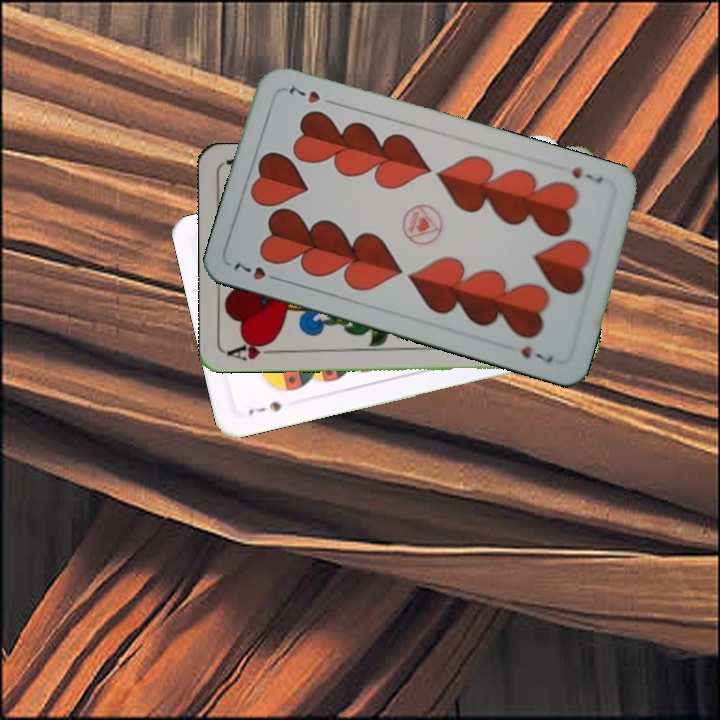H7: (230, 259, 285, 285), (567, 163, 606, 186)
HA: (224, 336, 283, 364)
S7: (244, 397, 284, 418)
